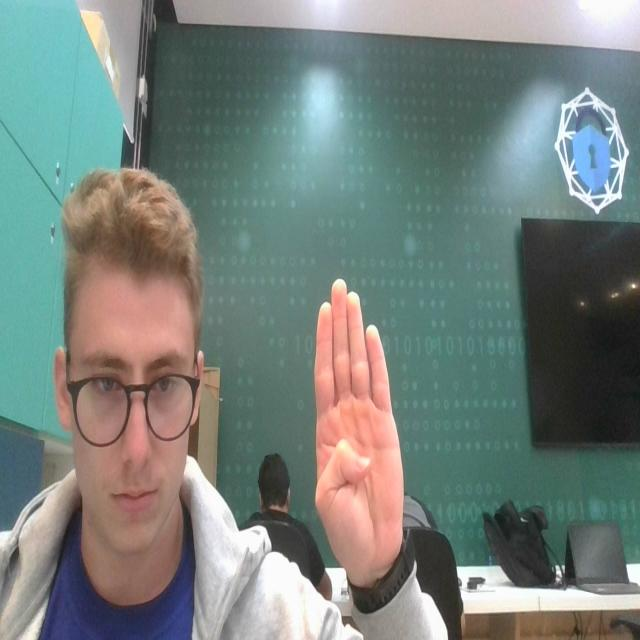B: (308, 272, 417, 599)
